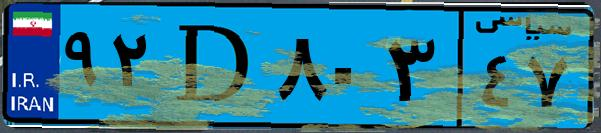0: (330, 28, 385, 110)
2: (110, 28, 158, 98)
3: (385, 28, 445, 110)
4: (475, 38, 525, 113)
7: (525, 38, 570, 115)
8: (270, 28, 330, 110)
9: (57, 26, 110, 100)
D: (158, 12, 270, 120)
